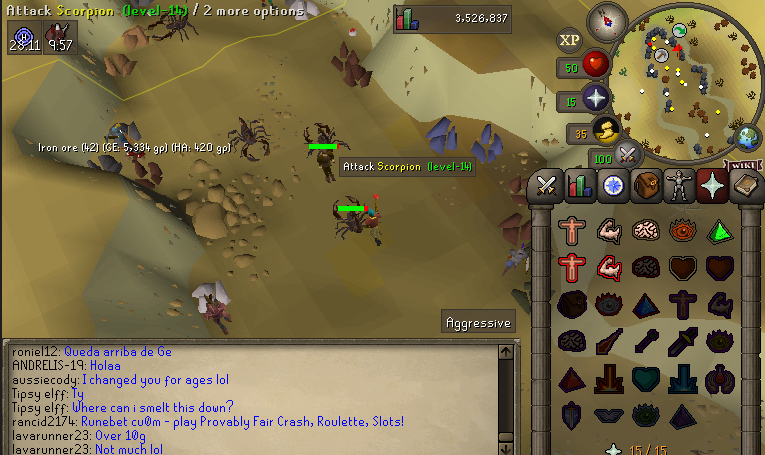depleted: (83, 151, 124, 178), (109, 118, 144, 147)
iron: (496, 211, 533, 248), (134, 159, 164, 194), (342, 62, 376, 90), (506, 176, 533, 209), (328, 42, 358, 70)
